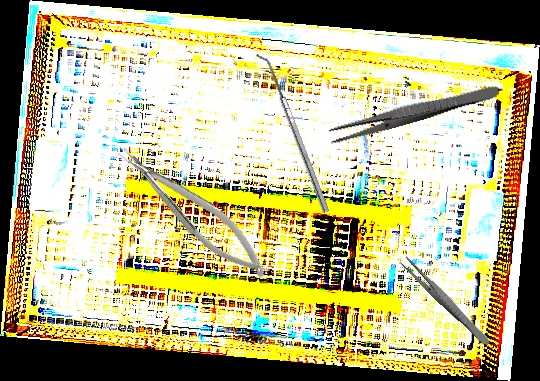Dressing Forceps: (326, 79, 501, 146), (397, 254, 494, 348)
Needle Holder: (111, 132, 278, 291)
Spatula Surgical: (255, 50, 330, 216)
